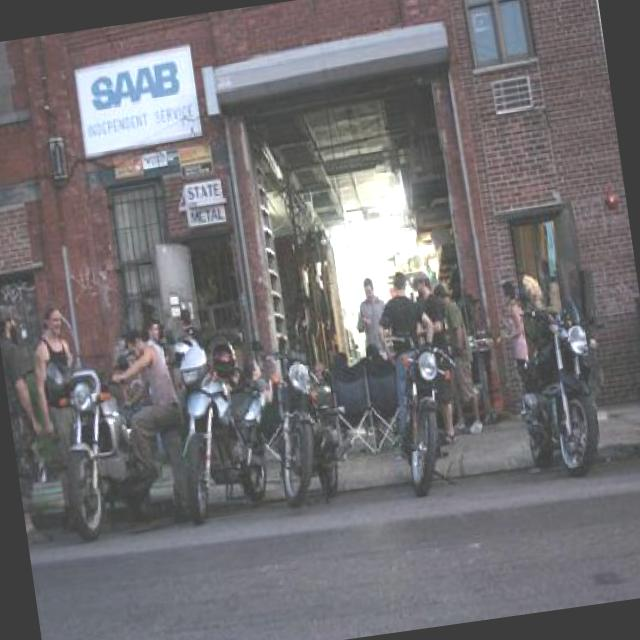Person: (102, 322, 195, 516), (364, 266, 449, 459), (27, 304, 96, 540), (0, 298, 56, 540), (406, 266, 459, 444), (431, 278, 480, 434), (494, 279, 531, 393), (346, 274, 392, 360), (238, 352, 276, 411), (512, 259, 544, 308), (176, 306, 210, 352), (140, 312, 164, 366), (310, 358, 324, 382)
